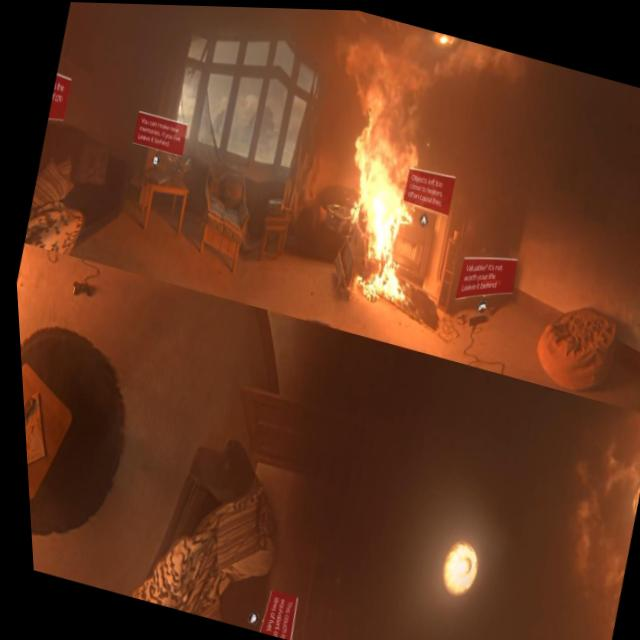fire: (307, 93, 454, 319)
